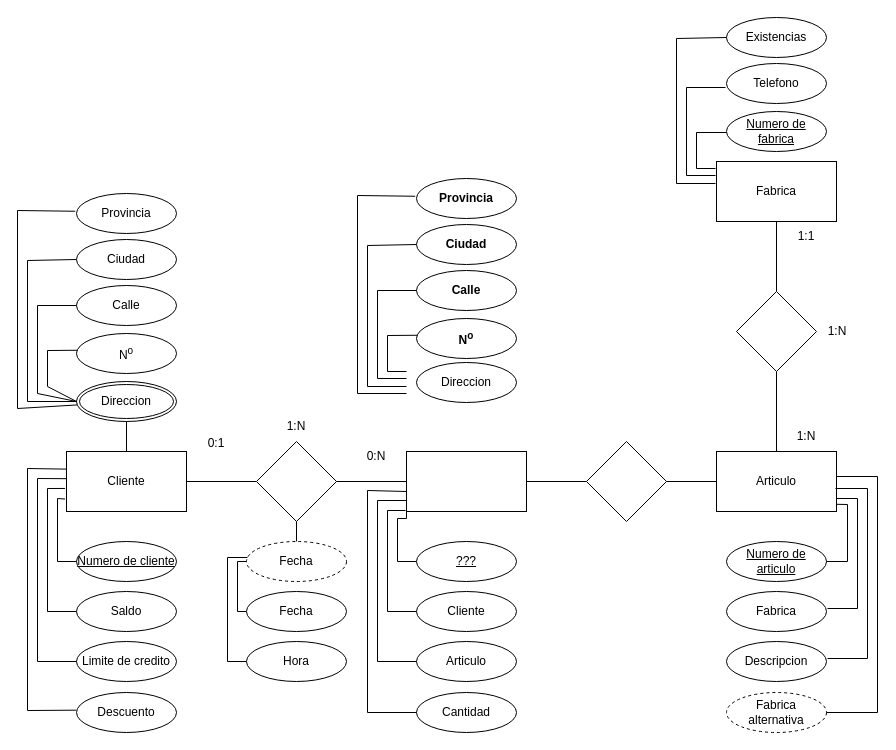
Some shapes in this 896 by 750 pixel diagram are drawn without their labels. The shapes that lost their labels are listed below. From the top down, each one's centre as x and y in pixels, then its label:
pixel 776 331: provee
pixel 296 481: hace
pixel 466 481: Pedido
pixel 626 481: incluye
